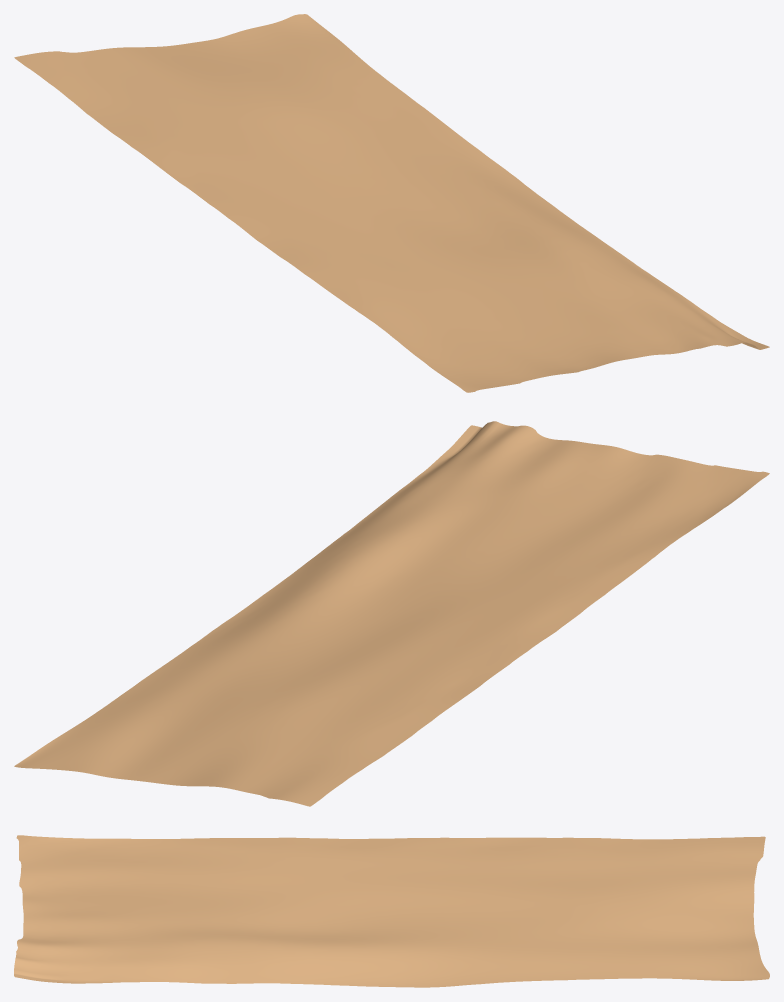
Rendered from Beach.fbx.
The picture shows the model from 3 angles, top to bottom: view 1: azimuth 30°, elevation 25°; view 2: azimuth 150°, elevation 25°; view 3: azimuth 270°, elevation 25°; orthographic projection. The views are drawn at different scales.
Visible parts, largest first — view 1: pPlane1; view 2: pPlane1; view 3: pPlane1.
Part boxes in pixels (left/top/right/bottom): pPlane1: left=14, top=14, right=769, bottom=392; pPlane1: left=14, top=421, right=769, bottom=806; pPlane1: left=14, top=835, right=769, bottom=987.
Size of the model in its own units: 72.64 by 9.33 by 193.
